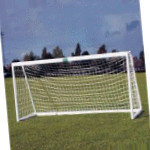goals: (10, 50, 144, 123)
